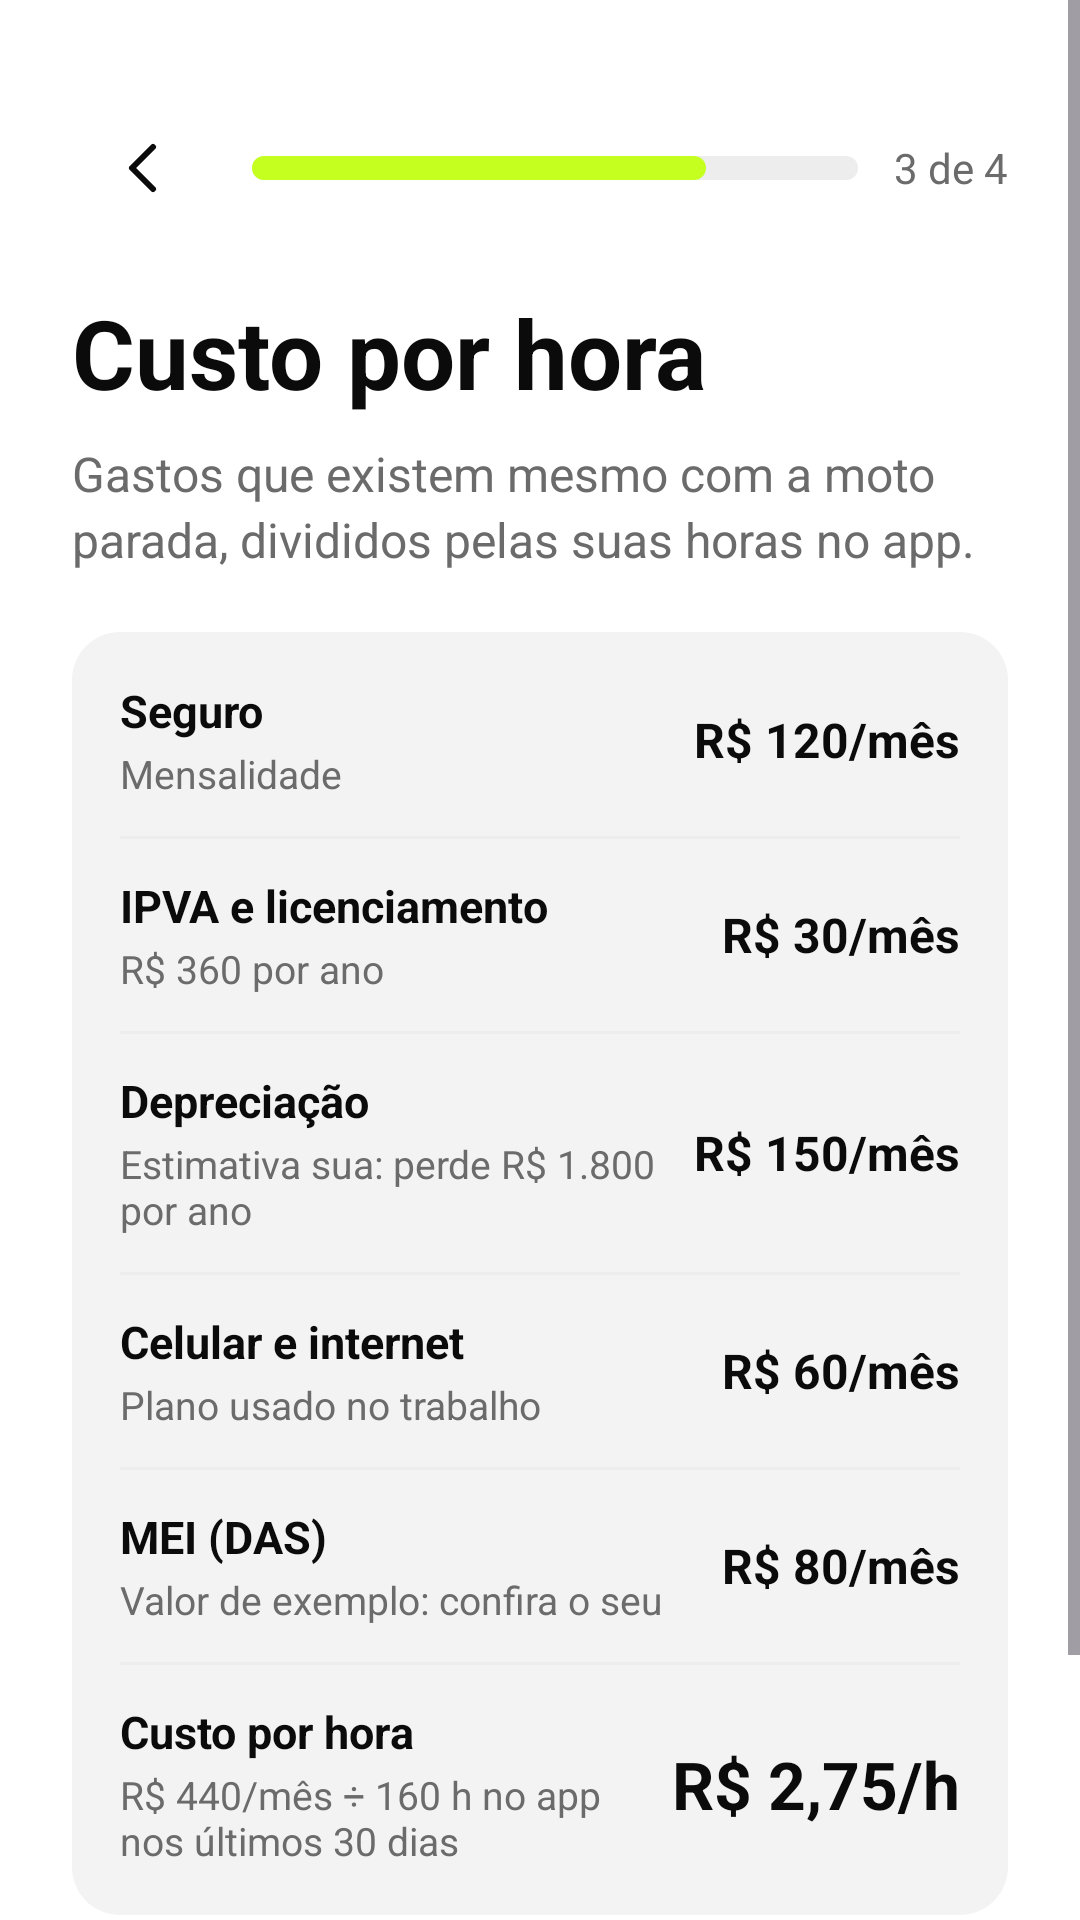

Icons on this 1080*1920 Android screen, each with its box as [left=x1, top=y1, right=x2, bottom=y2]:
Voltar: [left=129, top=144, right=156, bottom=192]
